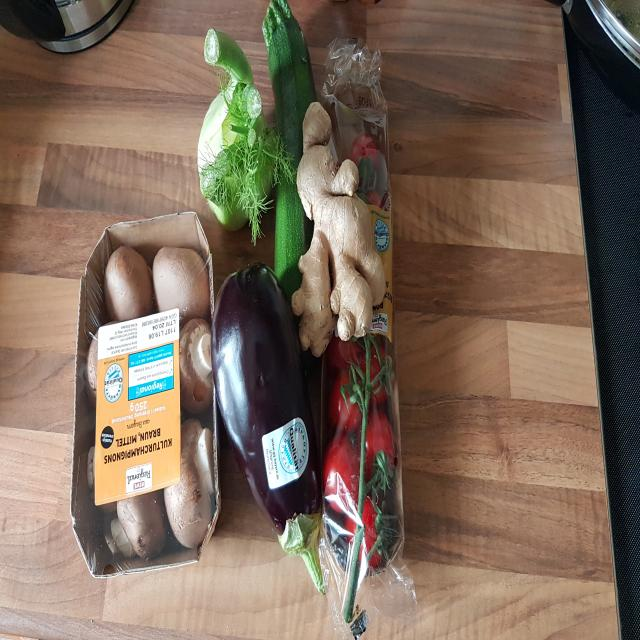Mushroom: (164, 413, 218, 553), (106, 478, 168, 563), (176, 315, 216, 419), (153, 243, 209, 316), (104, 245, 152, 325), (86, 320, 122, 401), (85, 436, 107, 500)
Tomato: (346, 492, 392, 570), (324, 434, 364, 516), (325, 364, 363, 437), (361, 410, 398, 482), (360, 349, 396, 410), (323, 327, 361, 370), (349, 130, 378, 180), (358, 183, 392, 216)
